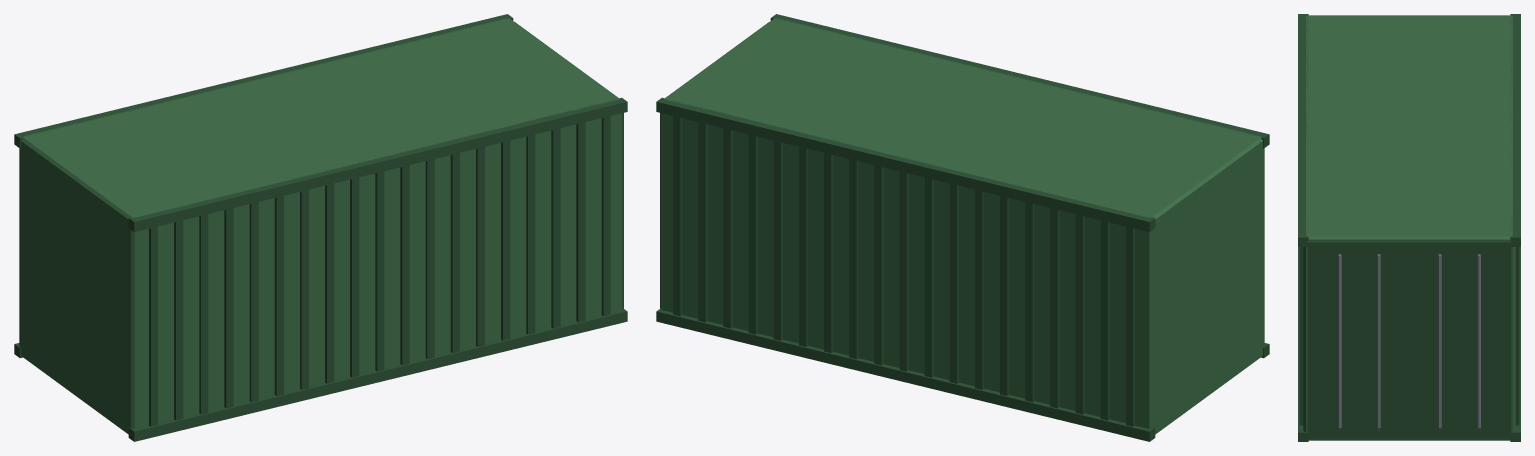
File: shipping_container_green.glb
3 views of the same model, side by side, from view 1: azimuth 30°, elevation 25°; view 2: azimuth 150°, elevation 25°; view 3: azimuth 270°, elevation 25° (orthographic). The views are drawn at different scales.
Visible parts, largest first — view 1: shipping_container_green; view 2: shipping_container_green; view 3: shipping_container_green.
Part boxes in pixels (left/top/right/bottom): shipping_container_green: left=14, top=14, right=627, bottom=441; shipping_container_green: left=656, top=14, right=1269, bottom=441; shipping_container_green: left=1298, top=14, right=1520, bottom=441.
Bounding box in the file's own units: 6.14 × 2.59 × 2.56.
